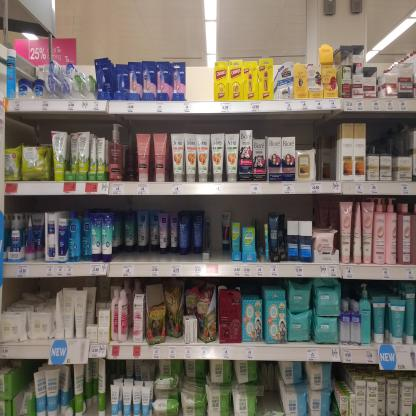Void: (115, 244, 200, 262), (369, 119, 410, 155), (6, 116, 48, 142), (317, 124, 335, 183), (256, 365, 278, 408), (189, 62, 213, 100), (124, 127, 137, 179), (210, 205, 220, 256)
